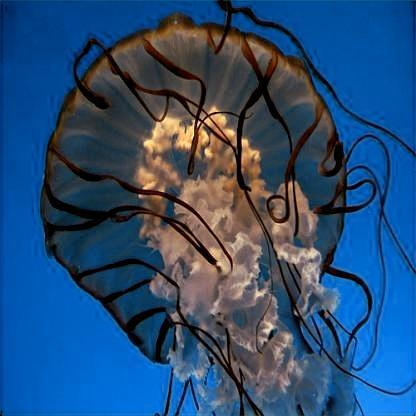Dressed: (38, 12, 365, 412)
